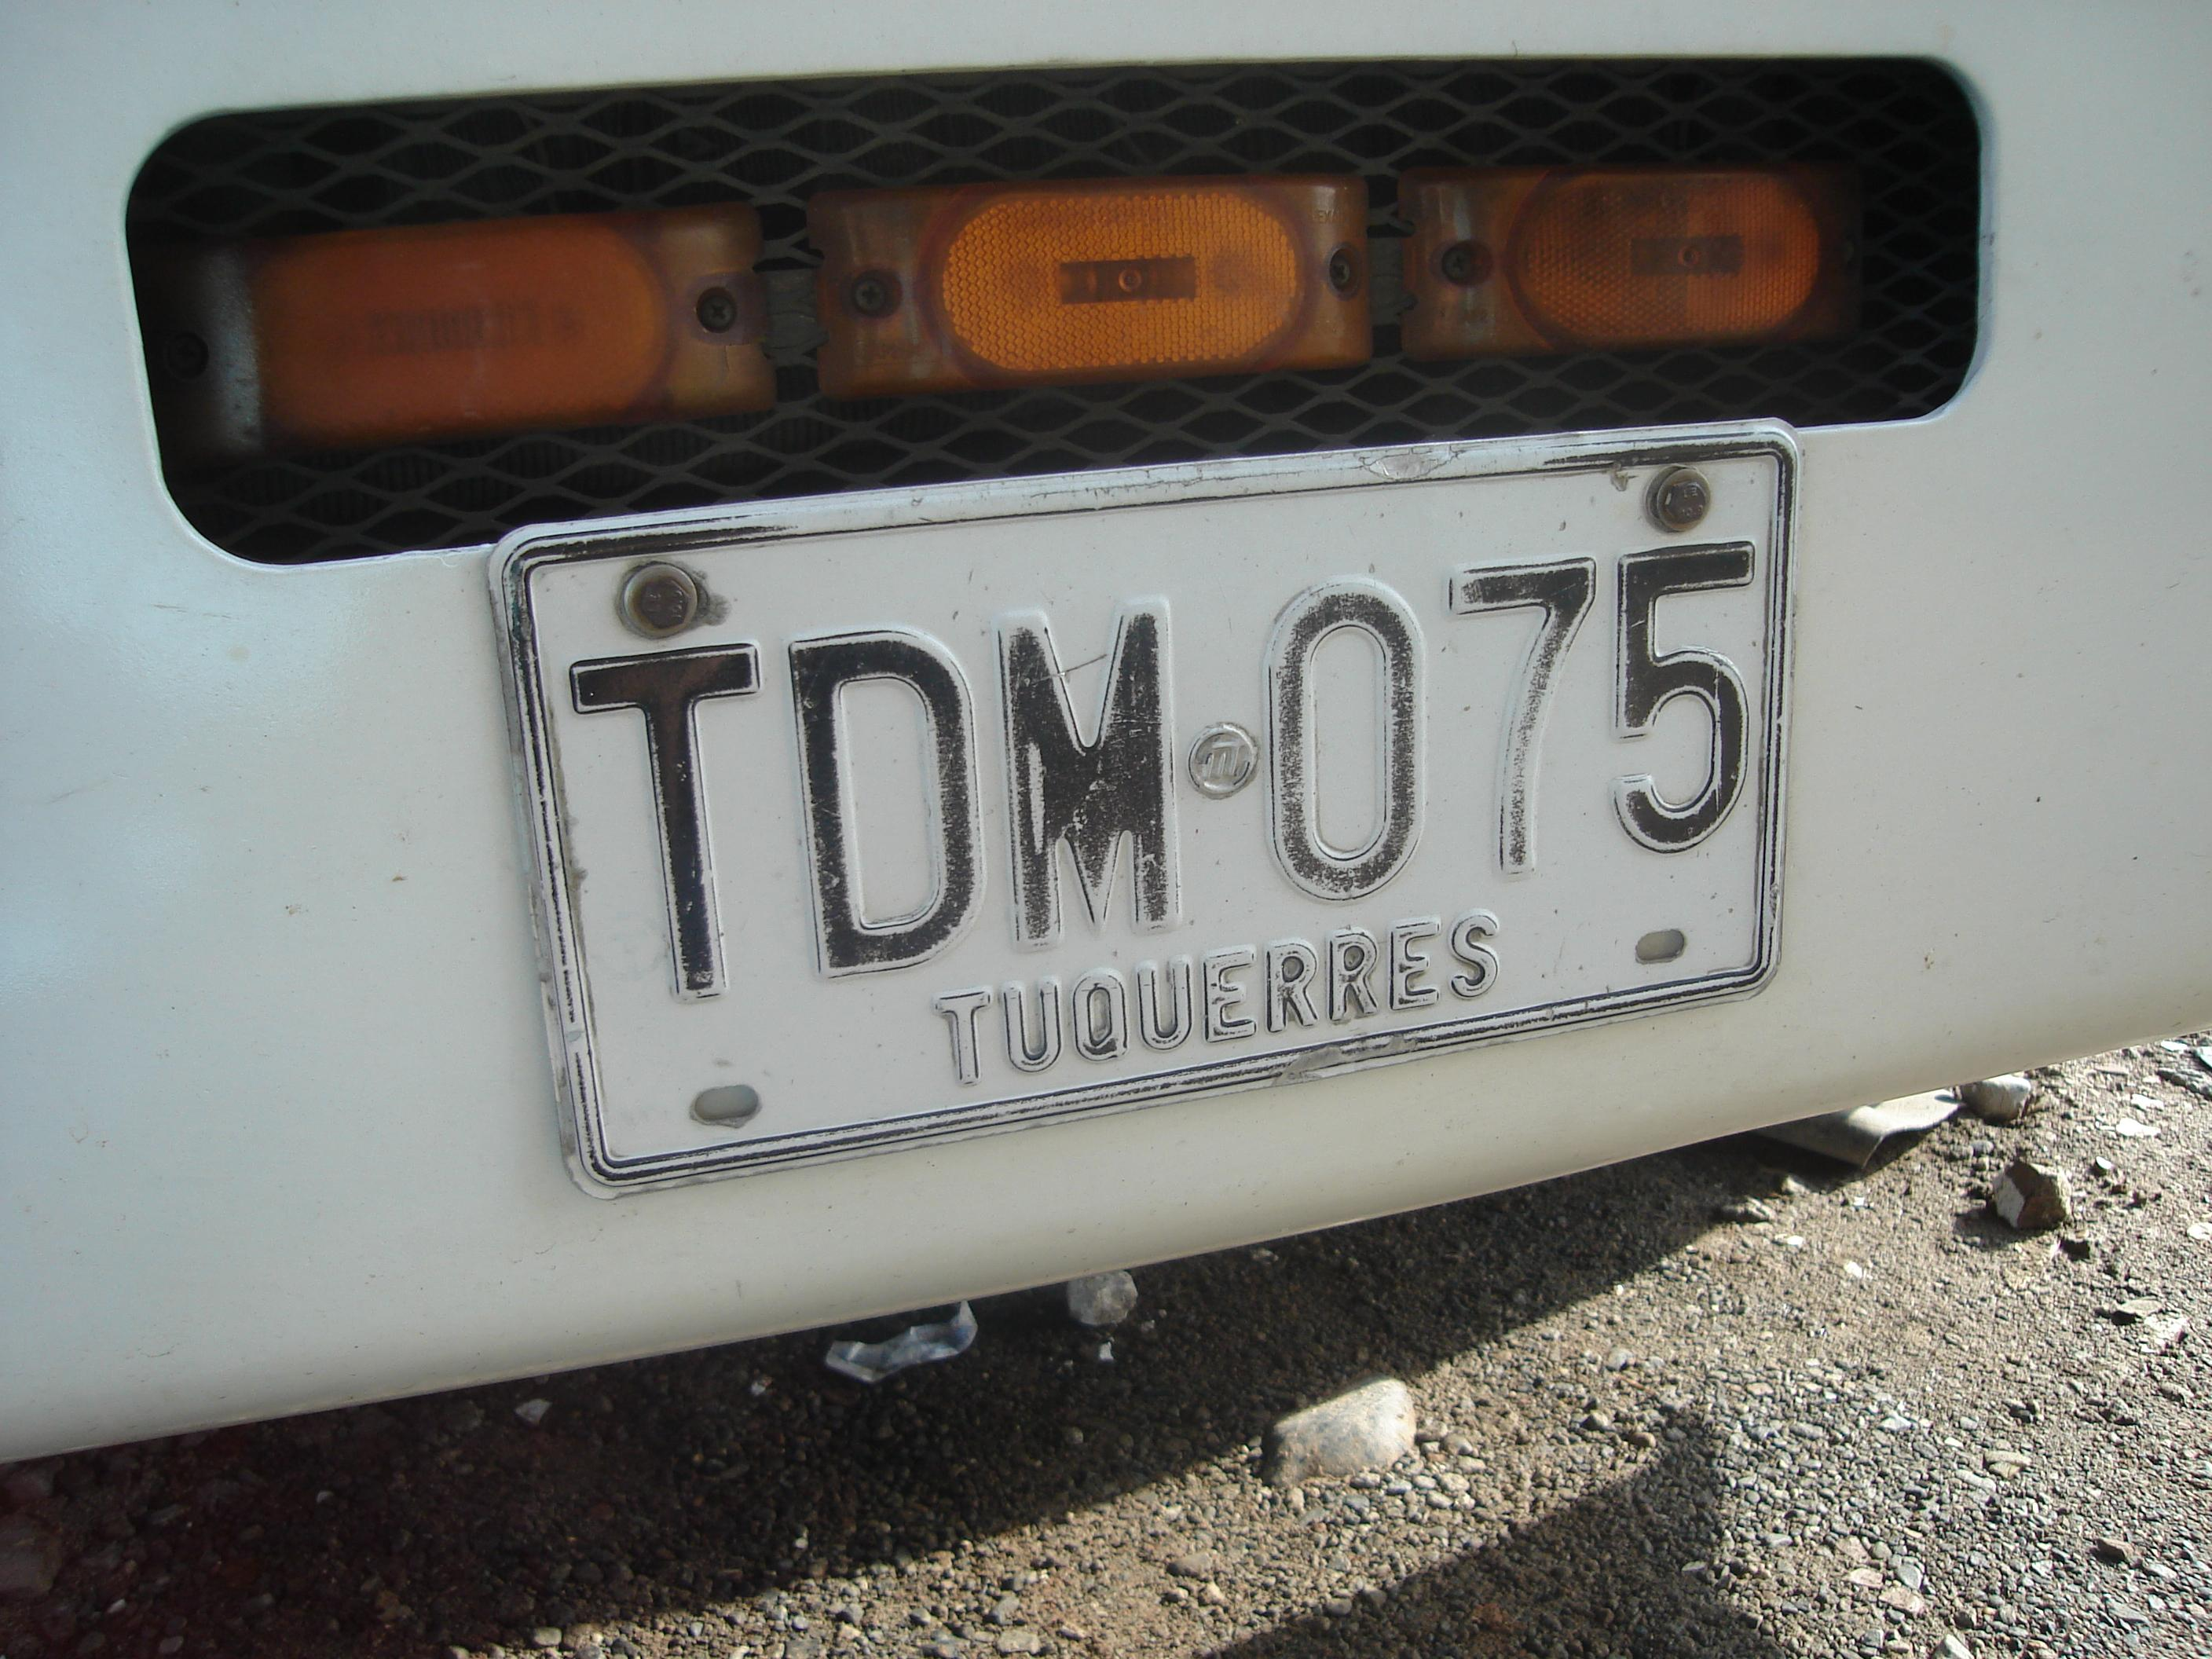placas: (475, 407, 1808, 1207)
